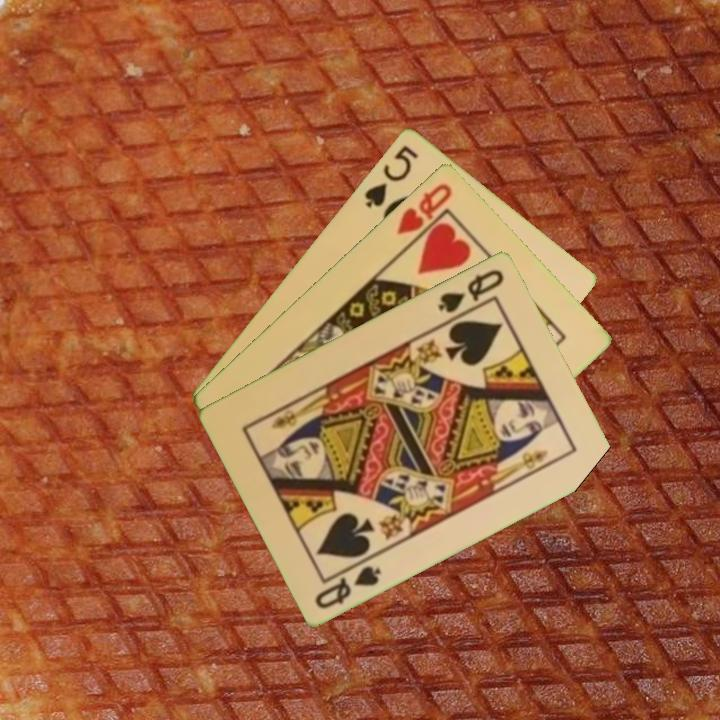5s: (361, 141, 421, 211)
Qh: (393, 179, 455, 250)
Qs: (311, 553, 384, 611), (434, 265, 507, 316)
